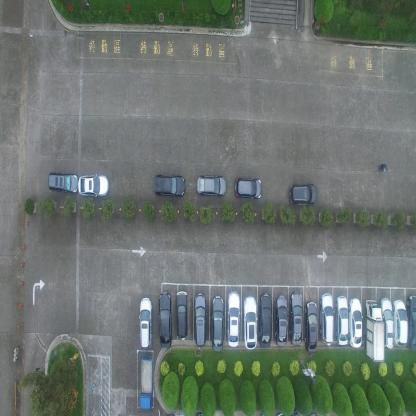car: (364, 298, 385, 363), (138, 354, 154, 412), (77, 169, 110, 197), (242, 295, 258, 351), (210, 294, 225, 353), (227, 290, 242, 348), (258, 292, 273, 349), (158, 290, 172, 350), (152, 171, 186, 195), (138, 294, 153, 348), (303, 300, 318, 354), (319, 293, 334, 347), (193, 291, 207, 348), (392, 298, 408, 347), (379, 298, 394, 350), (49, 168, 78, 194), (274, 294, 288, 347), (289, 291, 302, 348), (335, 295, 349, 347), (348, 297, 362, 349), (233, 176, 262, 201), (196, 173, 227, 196), (289, 183, 317, 208), (175, 289, 188, 340), (405, 294, 415, 350)
